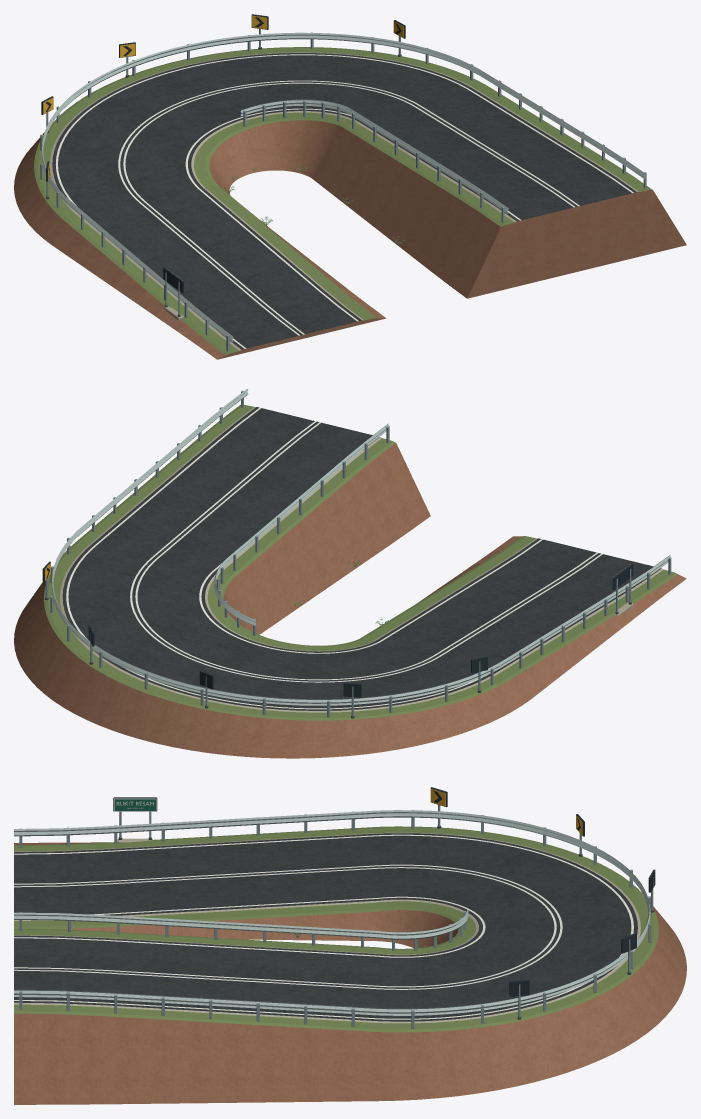
The picture shows the model from 3 angles, top to bottom: view 1: azimuth 30°, elevation 25°; view 2: azimuth 150°, elevation 25°; view 3: azimuth 270°, elevation 25°; orthographic projection. The views are drawn at different scales.
Parts seen in each view (by area): view 1: Graded bend and shoulders, Galvanised bend rail, Double centre lines, Bend rail uprights, Shoulder lines, Chevron boards; view 2: Graded bend and shoulders, Galvanised bend rail, Double centre lines, Bend rail uprights, Shoulder lines, Chevron boards; view 3: Graded bend and shoulders, Galvanised bend rail, Double centre lines, Shoulder lines, Bend rail uprights, Chevron boards, Wayfinding plaque.
Boxes of the visible parts, x1,y1,x2,y2 form: Graded bend and shoulders: (14,47,686,359); Galvanised bend rail: (41,32,646,342); Double centre lines: (118,80,579,335); Bend rail uprights: (40,32,646,351); Shoulder lines: (55,54,633,348); Chevron boards: (41,14,405,199); Graded bend and shoulders: (14,404,686,758); Galvanised bend rail: (51,388,671,705); Double centre lines: (130,421,602,682); Bend rail uprights: (50,390,671,717); Shoulder lines: (66,407,542,709); Chevron boards: (42,561,487,718); Graded bend and shoulders: (14,826,686,1104); Galvanised bend rail: (14,810,650,1015); Double centre lines: (14,864,562,989); Shoulder lines: (14,834,633,1019); Bend rail uprights: (19,810,651,1028); Chevron boards: (430,787,655,1019); Wayfinding plaque: (113,797,157,839).
Bounding box in the file's own units: 27.71 × 4.5 × 29.66.
Materials: 16 (2 with a texture image).
